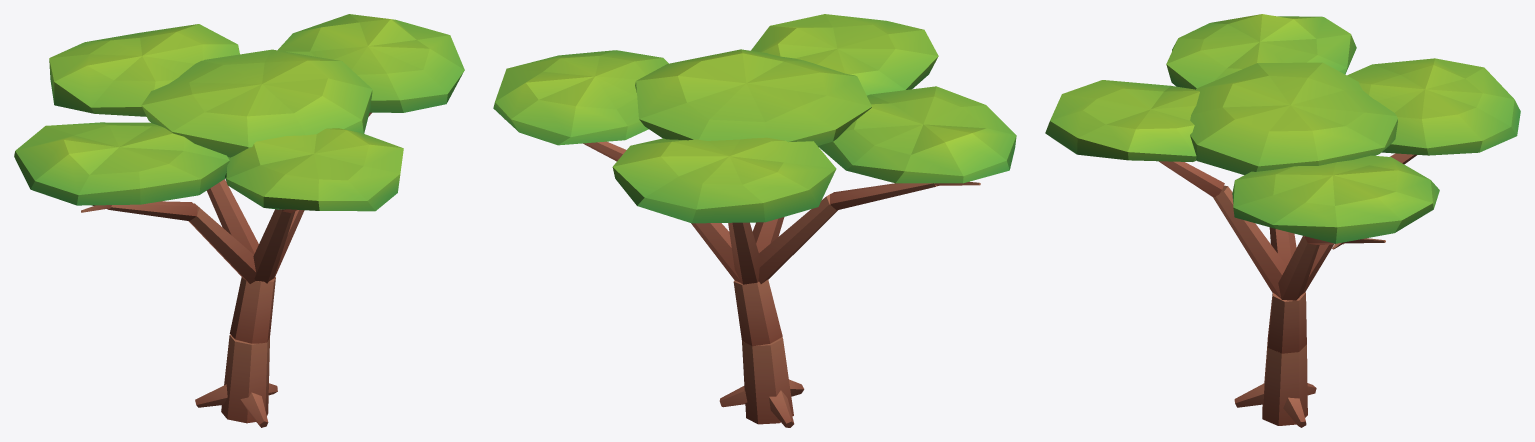
The model's file is lone_tree.glb.
3 renders of one model, left to right at view 1: azimuth 30°, elevation 25°; view 2: azimuth 150°, elevation 25°; view 3: azimuth 270°, elevation 25°, orthographic. The views are drawn at different scales.
Visible parts, largest first — view 1: lone_tree; view 2: lone_tree; view 3: lone_tree.
Boxes of the visible parts, bbox=[...] form: lone_tree: bbox=[14, 14, 464, 427]; lone_tree: bbox=[493, 14, 1016, 427]; lone_tree: bbox=[1045, 14, 1520, 427].
Bounding box in the file's own units: 10.86 × 7.42 × 9.91.
1 material, 1 textured.
